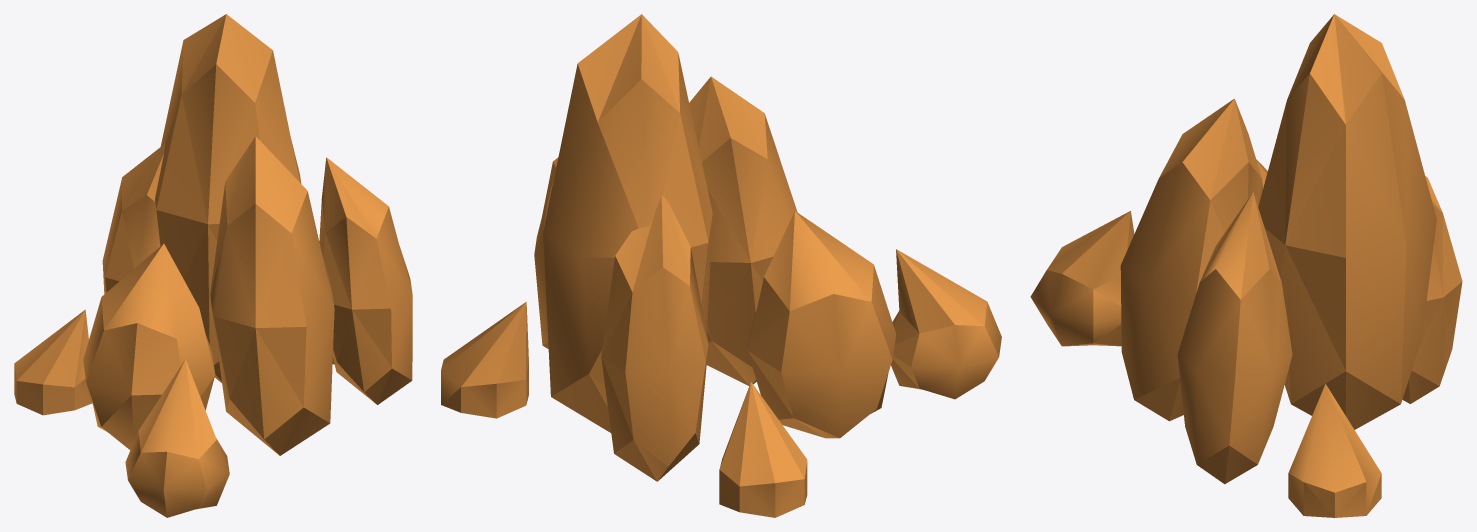
The model's file is SM_RockFormation_C.fbx.
3 views of the same model, side by side, from view 1: azimuth 30°, elevation 25°; view 2: azimuth 150°, elevation 25°; view 3: azimuth 270°, elevation 25° (orthographic). The views are drawn at different scales.
Visible parts, largest first — view 1: SM_RockFormation_C; view 2: SM_RockFormation_C; view 3: SM_RockFormation_C.
Boxes of the visible parts, x1=… form: SM_RockFormation_C: x1=14, y1=14, x2=412, y2=517; SM_RockFormation_C: x1=441, y1=14, x2=1001, y2=517; SM_RockFormation_C: x1=1030, y1=14, x2=1462, y2=517.
Bounding box in the file's own units: 320 × 305 × 284.
